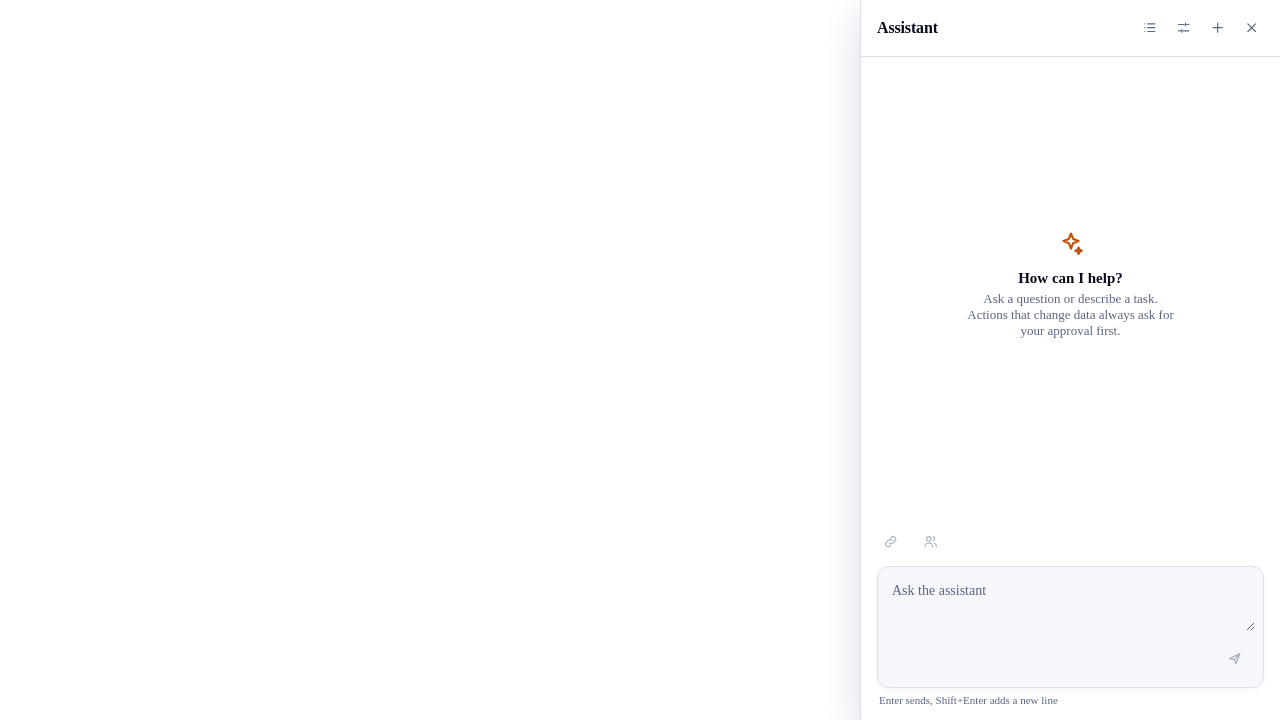
it: NhAssistantPanelComponent preferences and admin link › opens the preferences from the header
What coordinates should you click on to do the following:
click the button named "Your assistant preferences"
I would click on:
 (1184, 28)
Its box is top-left (1168, 12), bottom-right (1200, 44).
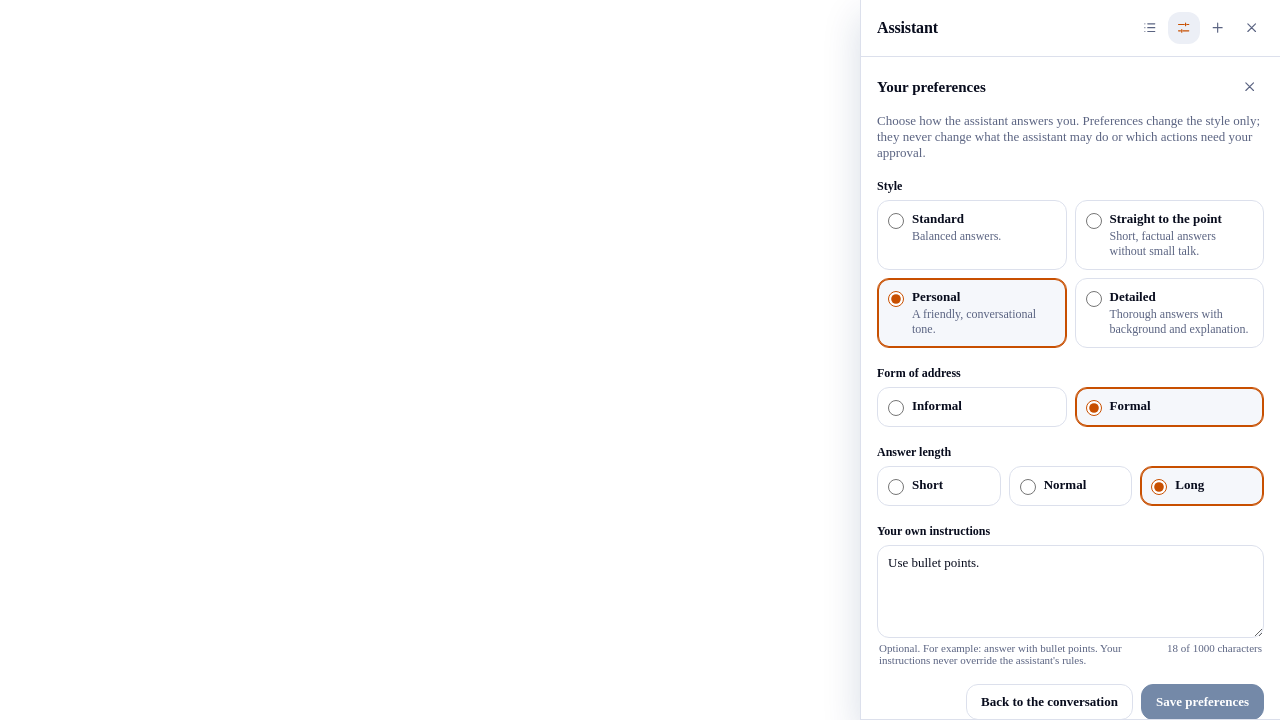
expect the button named "Your assistant preferences" is expanded: met, box top-left (1168, 12), bottom-right (1200, 44)
